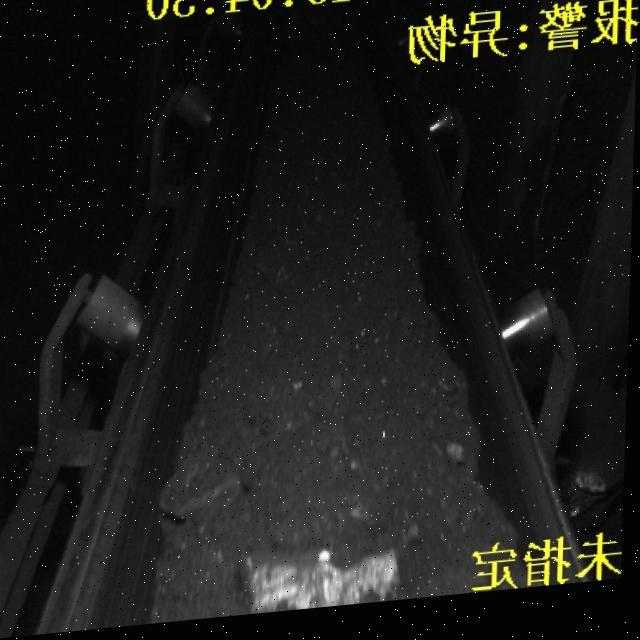large_sized_coal: (246, 547, 409, 620), (165, 459, 253, 523)
